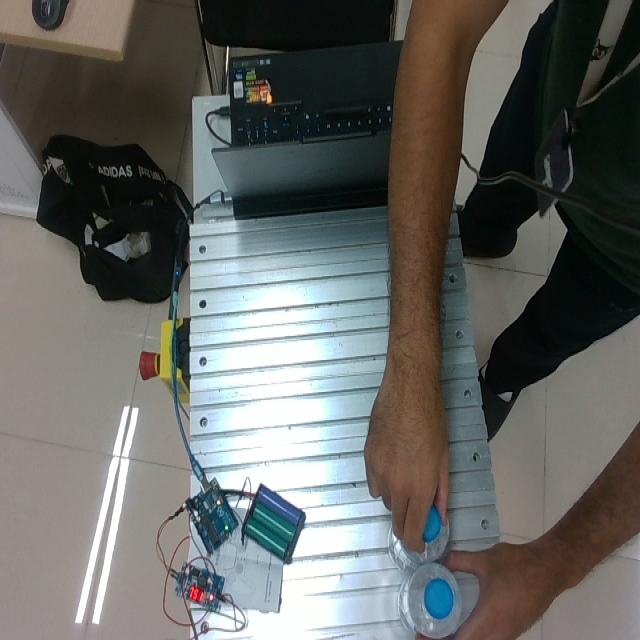lavie: (397, 565, 463, 640), (389, 503, 450, 574)
